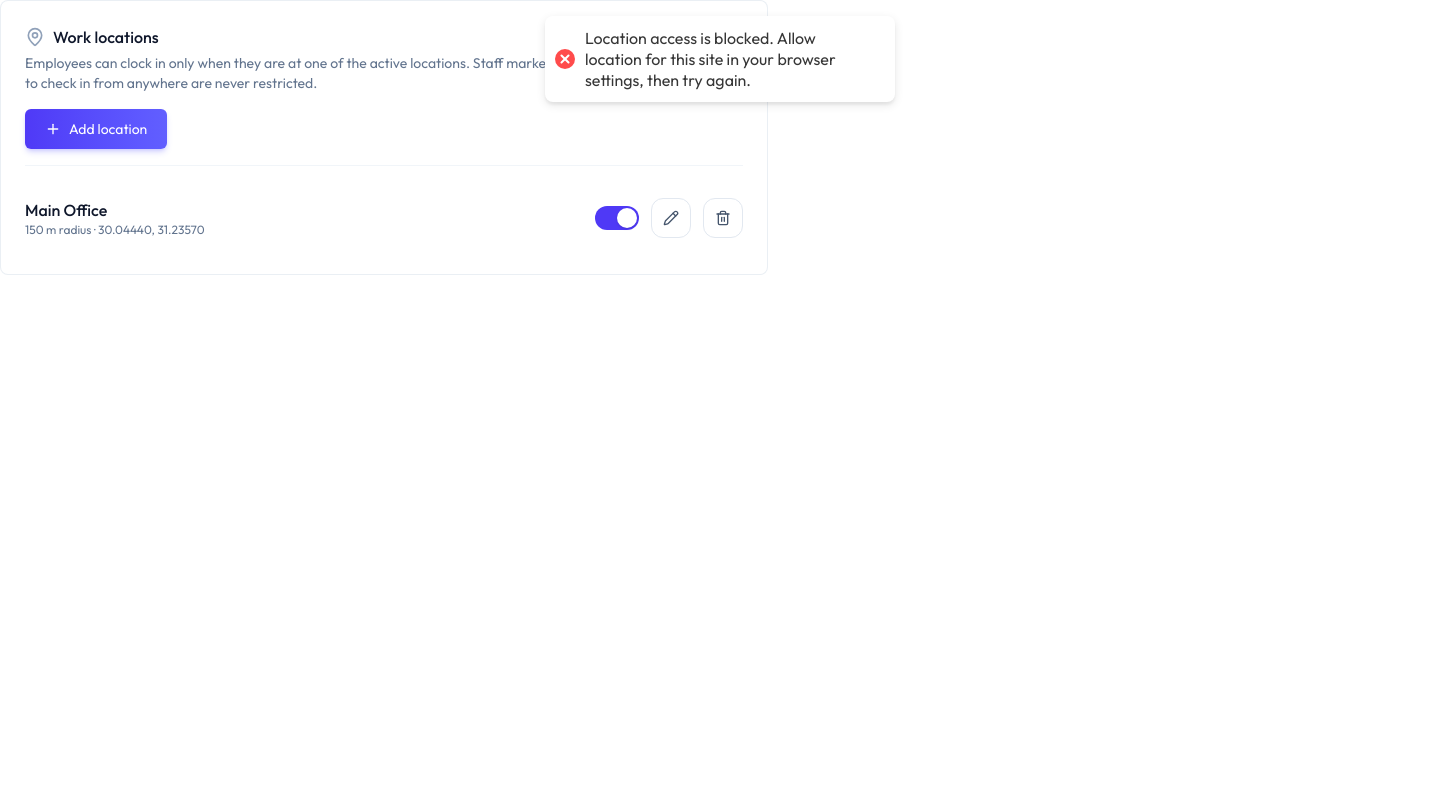
Test: WorkplacesSection › edits a location
The width and height of the screenshot is (1440, 810).
Later steps or results of the test are not shown.
Click the button named "Edit Main Office" at {"x": 671, "y": 218}, box [651,198,691,238]
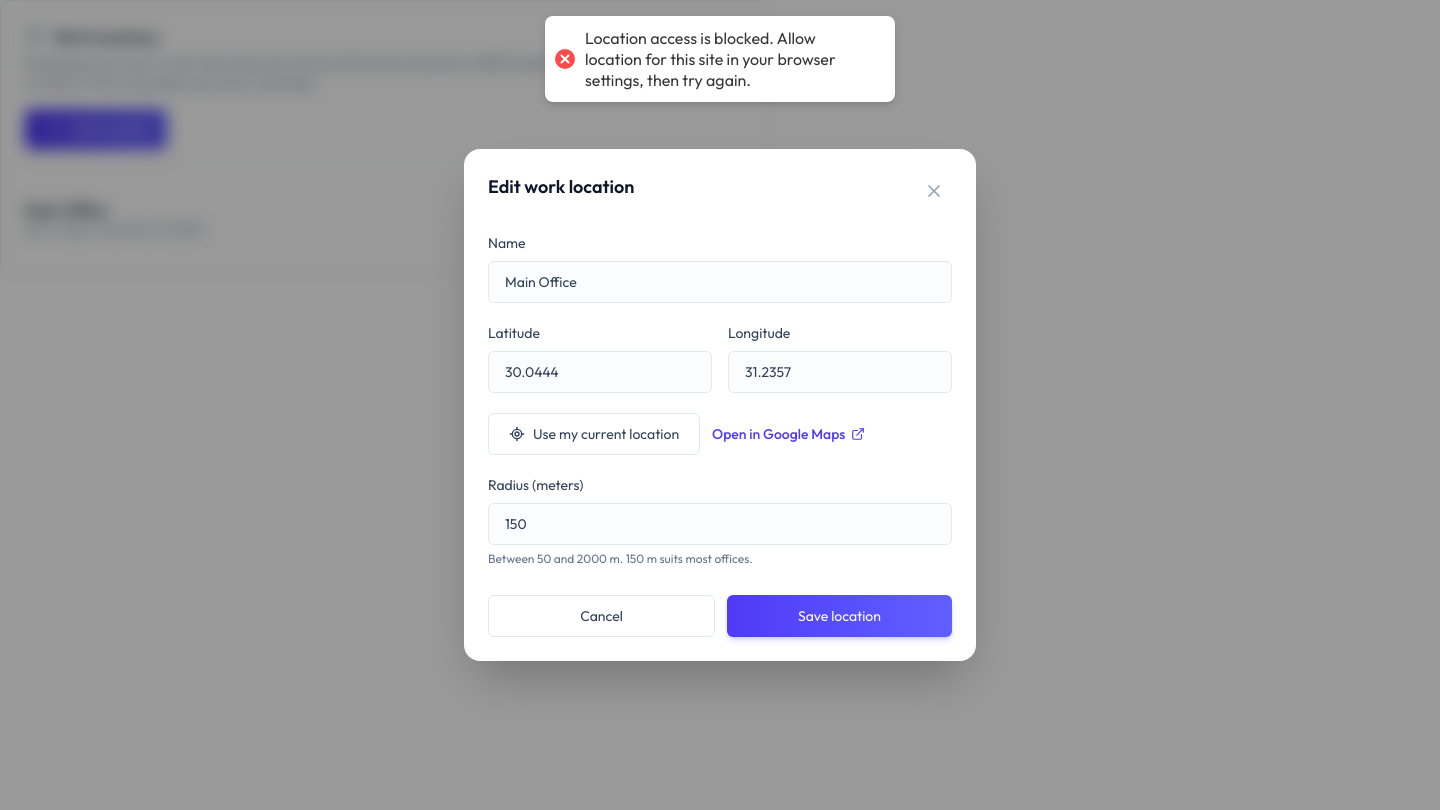
Check: the field labelled "Name" holds "Main Office", box [488,261,952,303]
